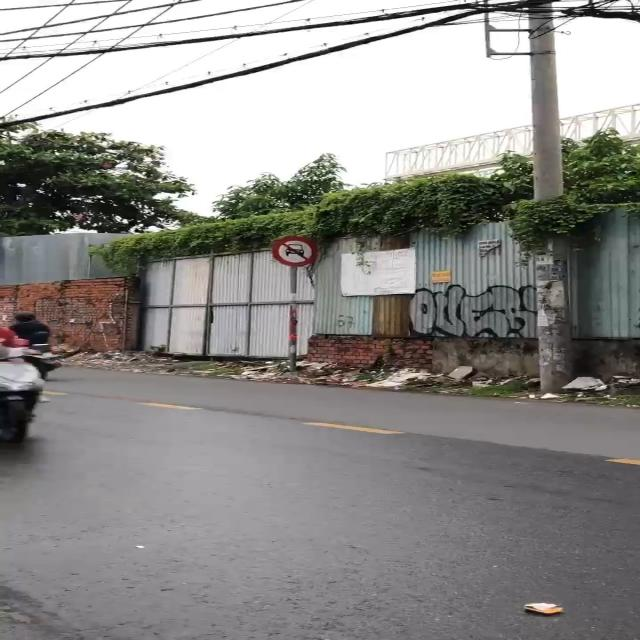Bien bao cam xe oto: (271, 234, 320, 267)
